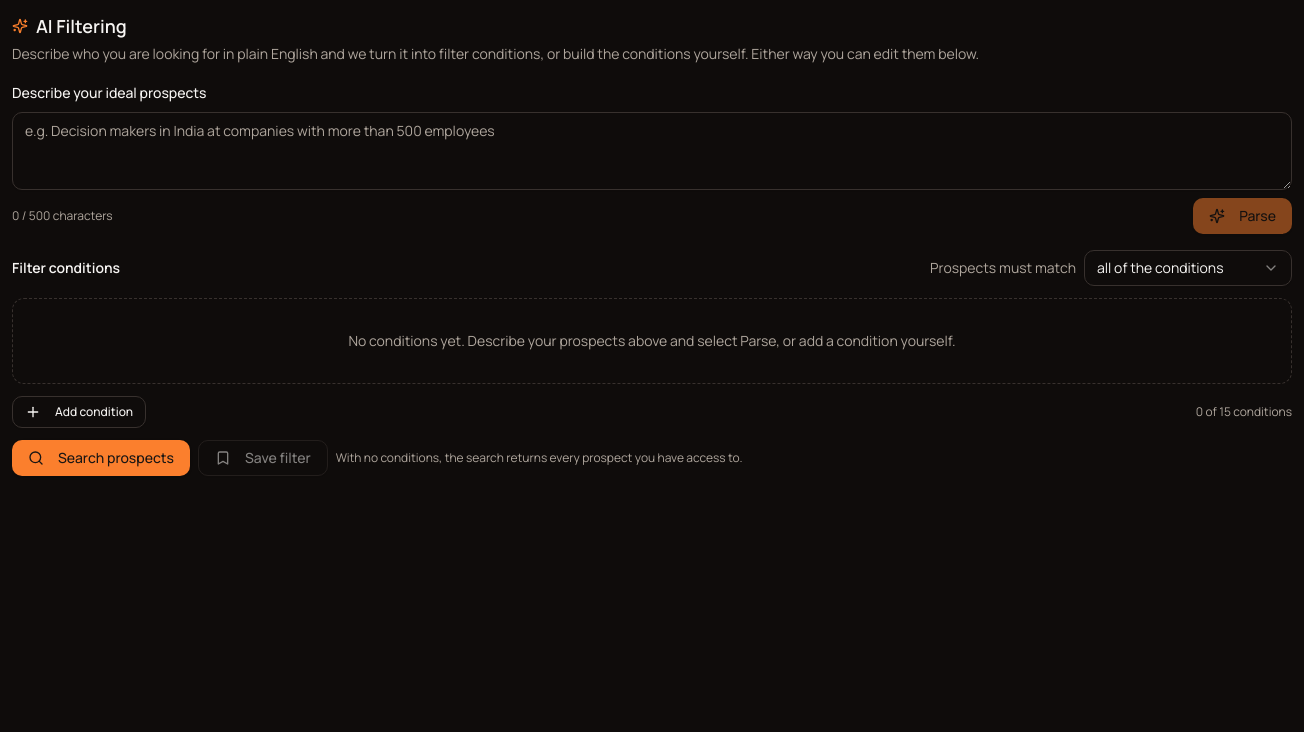
it: keeps working by hand when the AI service is down
Type "CTOs" into the text box labelled "Describe your ideal prospects" at (652, 151), box 12,112 -> 1292,190
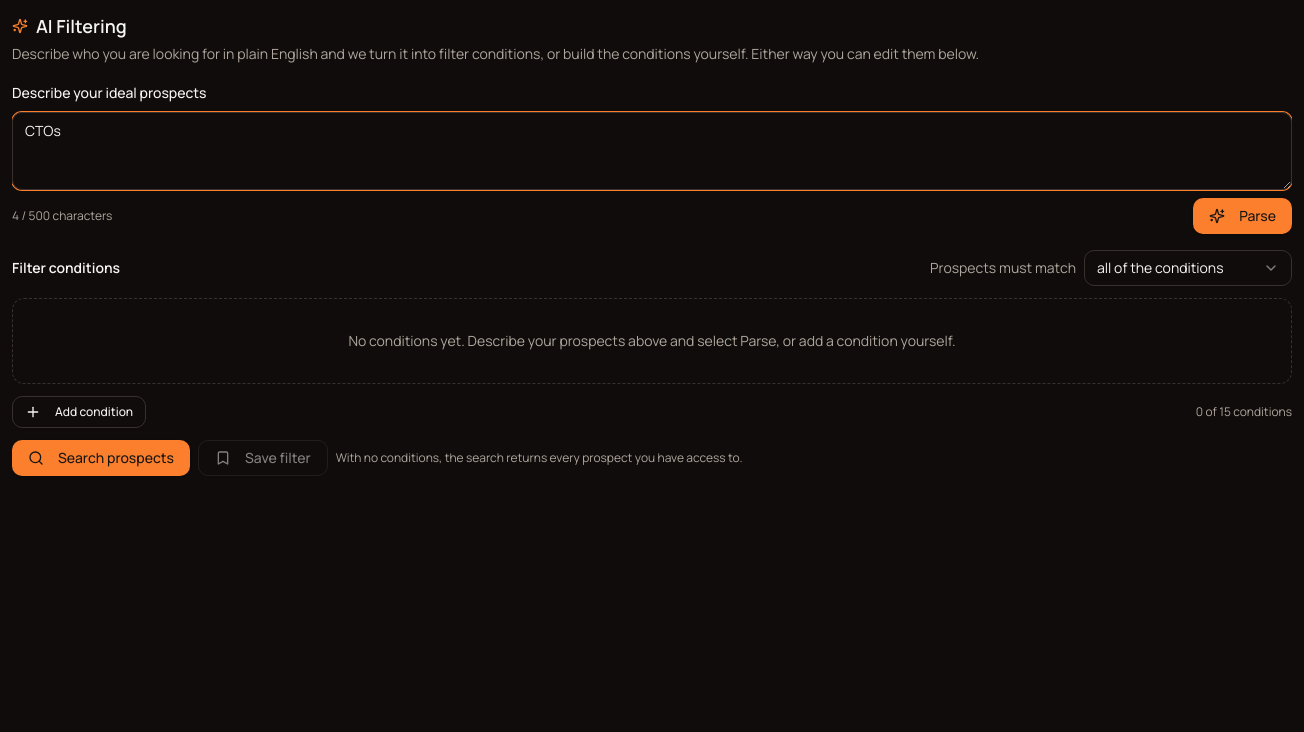
Click the button "Parse" at (1243, 216), box 1193,198 -> 1292,234
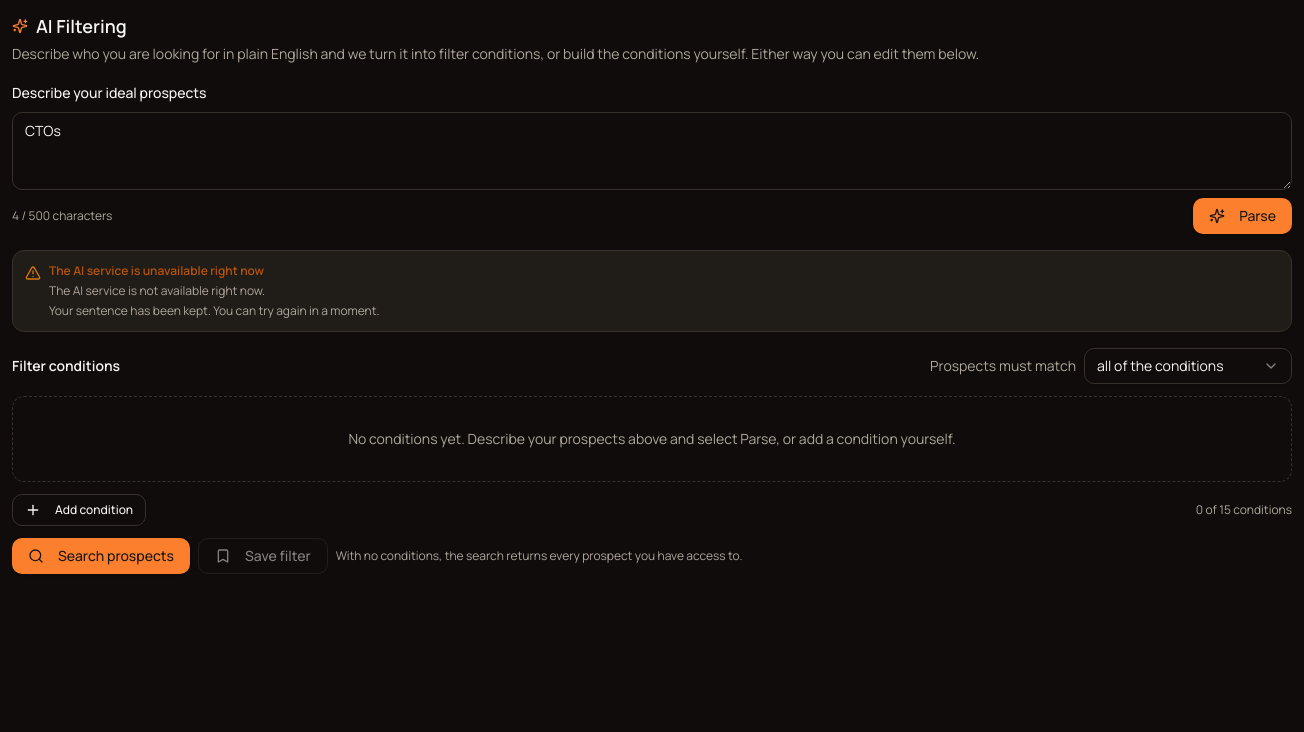
expect the button "Search prospects" is enabled: met, box 12,538 -> 190,574
expect the text "The AI service is unavailable right now" is shown: met, box 49,262 -> 264,279
